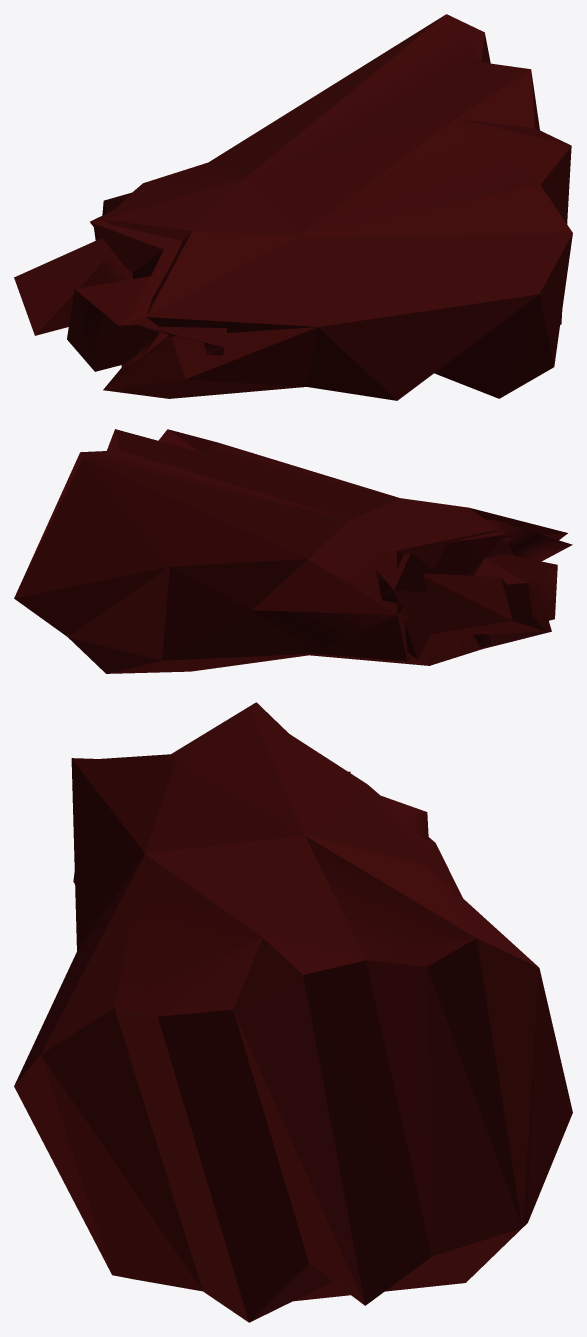
File: RHands.fbx
3 renders of one model, top to bottom at view 1: azimuth 30°, elevation 25°; view 2: azimuth 150°, elevation 25°; view 3: azimuth 270°, elevation 25°, orthographic. The views are drawn at different scales.
Visible parts, largest first — view 1: Object_2.001; view 2: Object_2.001; view 3: Object_2.001.
Part boxes in pixels (x1,y1,x2,y2): Object_2.001: (14, 14, 572, 400); Object_2.001: (14, 429, 572, 673); Object_2.001: (14, 702, 572, 1322).
Size of the model in its own units: 88.05 by 41.88 by 54.55.
